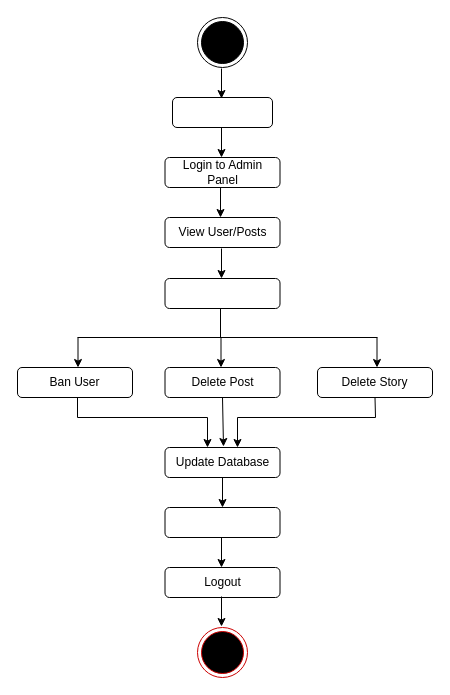
Some shapes in this 450 by 695 pixel diagram are drawn without their labels. Each missing label, with the centre of its shape:
Enter Credentials: point 222,112
Select Action: point 222,293
View Analytics: point 222,522
